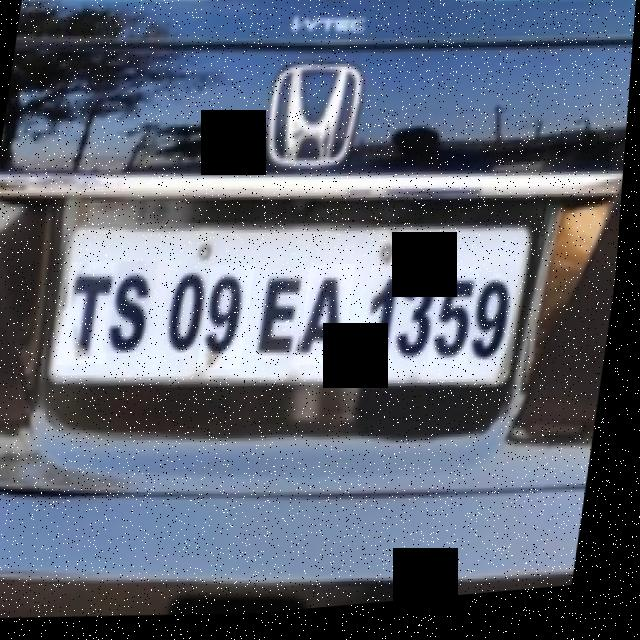0: (163, 267, 215, 374)
1: (363, 267, 409, 380)
3: (394, 270, 447, 371)
5: (432, 273, 485, 377)
9: (202, 266, 259, 377), (472, 271, 527, 374)
A: (303, 267, 360, 374)
E: (257, 270, 316, 363)
S: (108, 260, 163, 358)
T: (62, 260, 123, 369)
